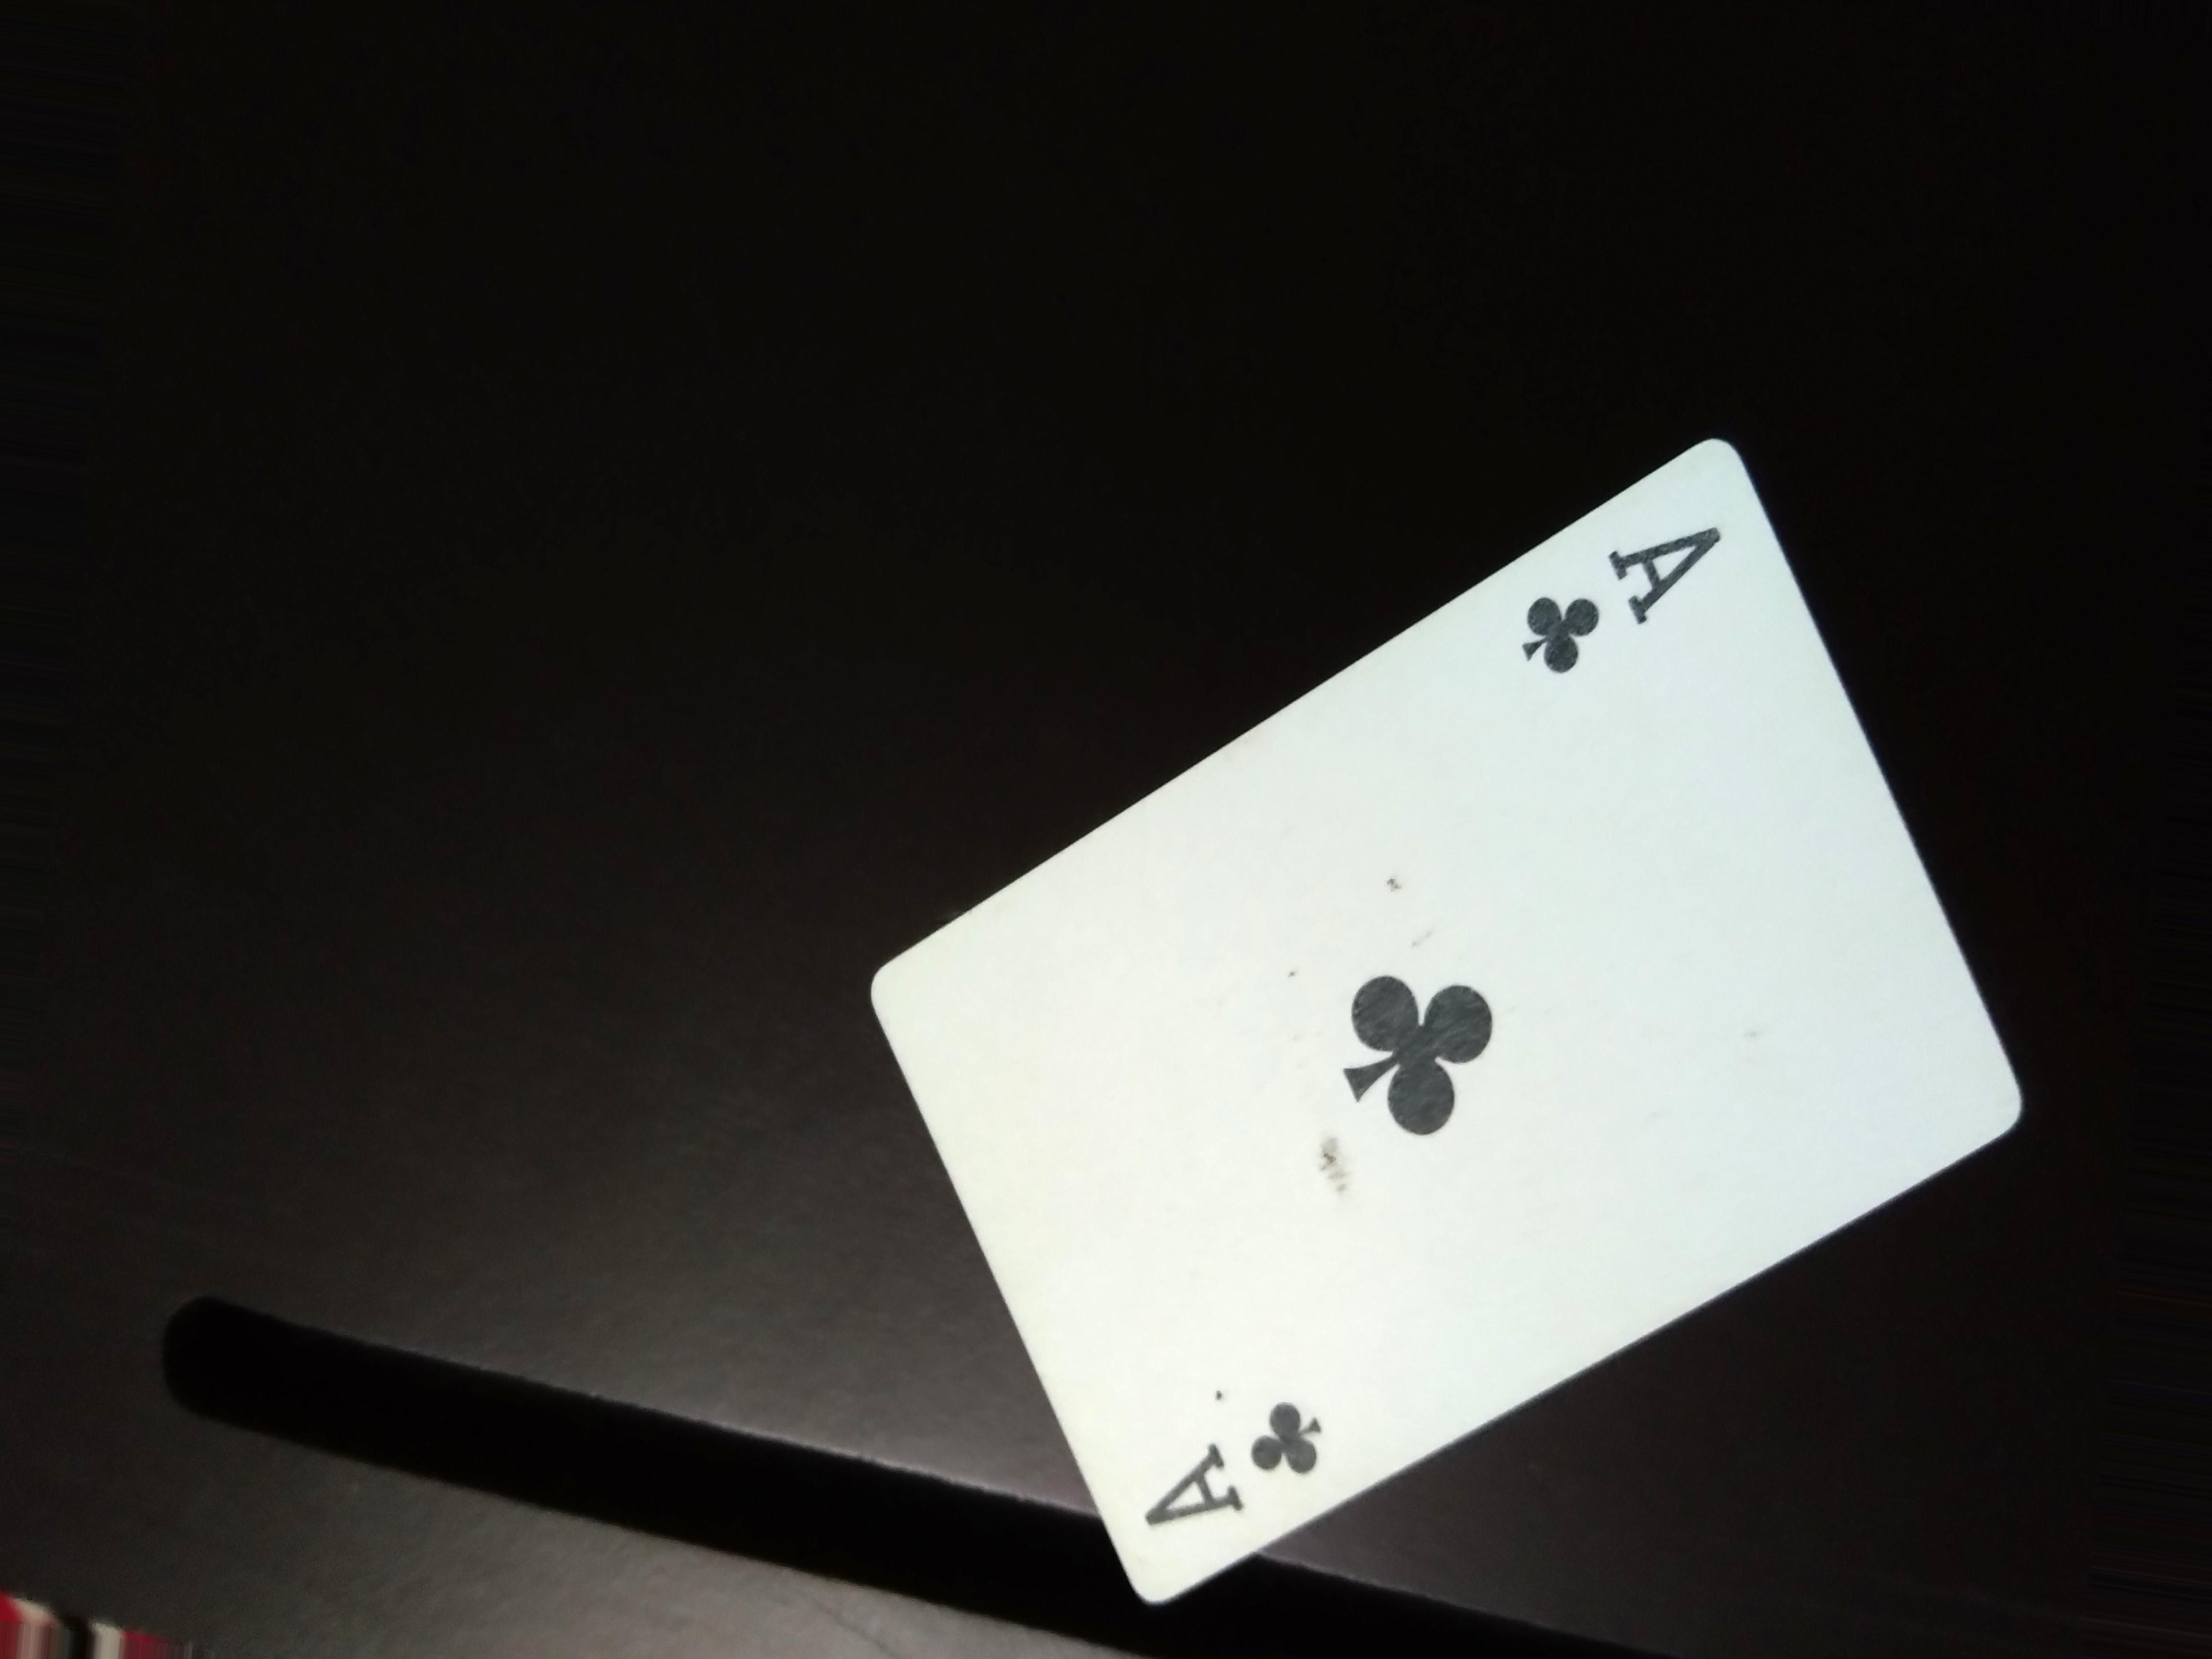AC: (1514, 500, 1740, 697)
